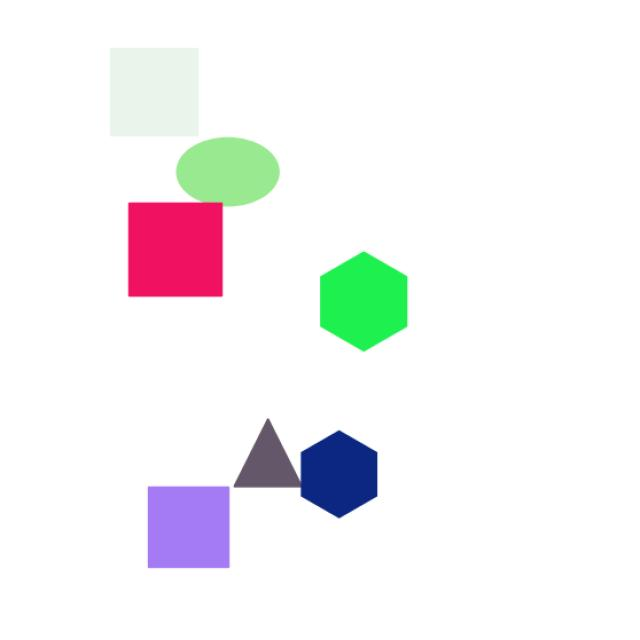Hexagon: (304, 243, 419, 361), (297, 424, 390, 536)
Oval: (165, 133, 298, 225)
Triangle: (209, 411, 310, 505)
square: (95, 33, 216, 154), (103, 196, 238, 302), (135, 474, 255, 580)
